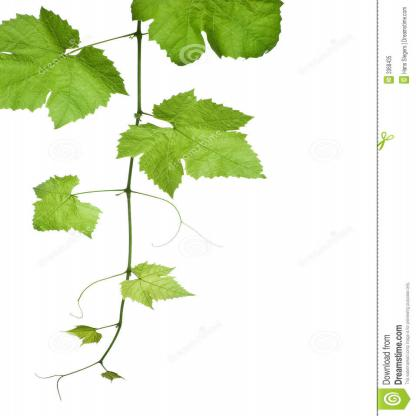grape leaf: (116, 90, 271, 201), (0, 6, 126, 134), (16, 173, 103, 245), (118, 260, 199, 314)
